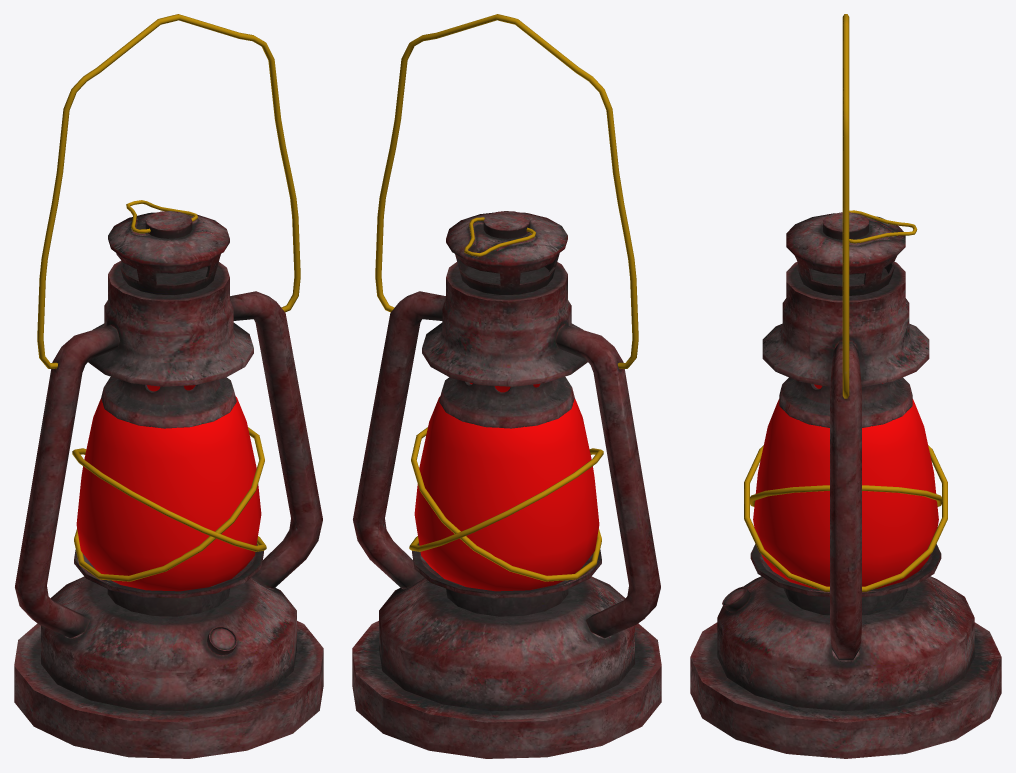
Rendered from Latern.fbx.
3 views of the same model, side by side, from view 1: azimuth 30°, elevation 25°; view 2: azimuth 150°, elevation 25°; view 3: azimuth 270°, elevation 25° (orthographic).
Visible parts, largest first — view 1: Lantern_LOD0; view 2: Lantern_LOD0; view 3: Lantern_LOD0.
Boxes of the visible parts, bbox=[...] form: Lantern_LOD0: bbox=[14, 14, 323, 758]; Lantern_LOD0: bbox=[352, 14, 661, 758]; Lantern_LOD0: bbox=[690, 14, 1001, 758].
Size of the model in its own units: 0.8622 by 1.86 by 0.7764.
